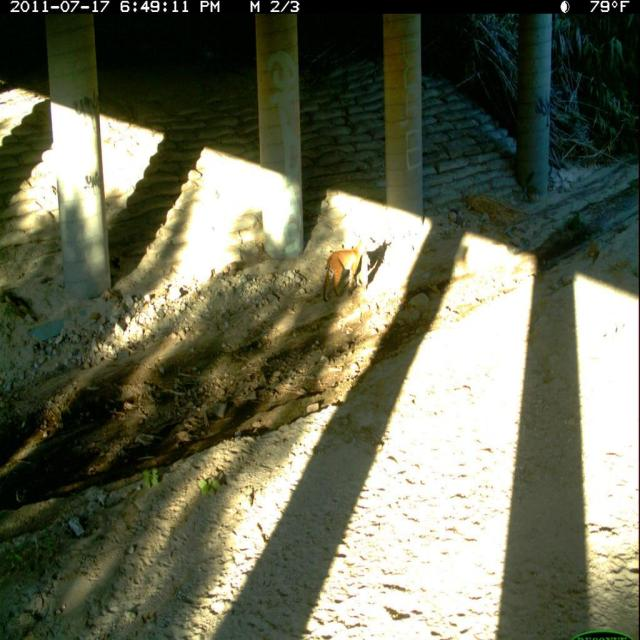bobcat: (320, 235, 370, 305)
rabbit: (359, 250, 373, 293)
